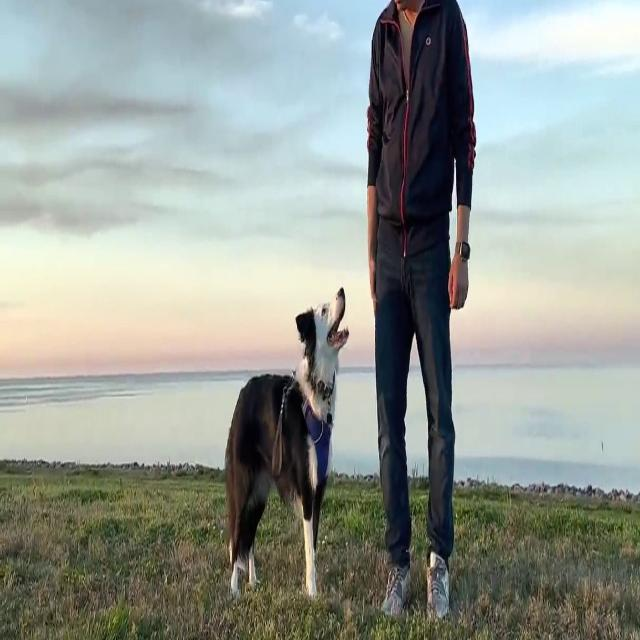Unleashed_Dog: (221, 242, 411, 602)
